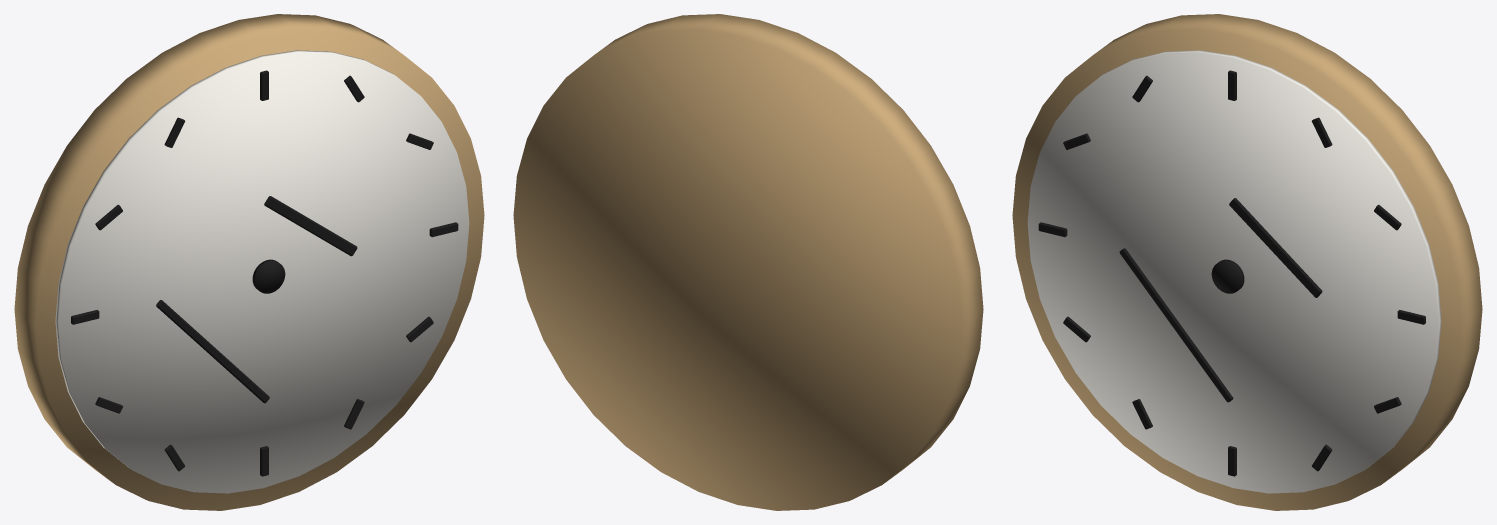
File: i_clock_2.glb
The picture shows the model from 3 angles, left to right: view 1: azimuth 30°, elevation 25°; view 2: azimuth 150°, elevation 25°; view 3: azimuth 330°, elevation 25°; orthographic projection.
Parts seen in each view (by area): view 1: o.001, o, o.015, o.014, o.016; view 2: o; view 3: o.001, o, o.015, o.014, o.016.
Boxes of the visible parts, x1=… form: o.001: x1=55, y1=50, x2=469, y2=493; o: x1=14, y1=14, x2=484, y2=510; o.015: x1=156, y1=300, x2=269, y2=403; o.014: x1=264, y1=196, x2=357, y2=256; o.016: x1=252, y1=259, x2=285, y2=293; o: x1=513, y1=14, x2=983, y2=510; o.001: x1=1027, y1=50, x2=1441, y2=493; o: x1=1012, y1=14, x2=1482, y2=510; o.015: x1=1119, y1=248, x2=1233, y2=402; o.014: x1=1229, y1=198, x2=1322, y2=297; o.016: x1=1211, y1=259, x2=1244, y2=293.
Size of the model in its own units: 0.36 by 0.36 by 0.044.
